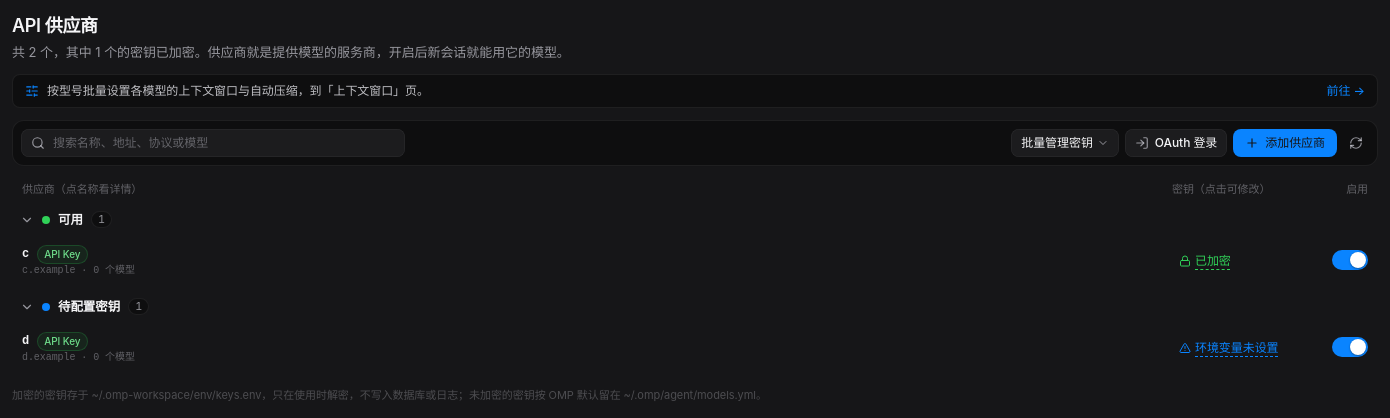
Test: encrypt-all menu › is disabled and reads 已全部加密 when no plaintext key remains
expect the text "供应商（点名称看详情）" is shown: met, box [22,182,142,196]
Click the button "批量管理密钥" at {"x": 1065, "y": 143}, box [1011,129,1119,157]
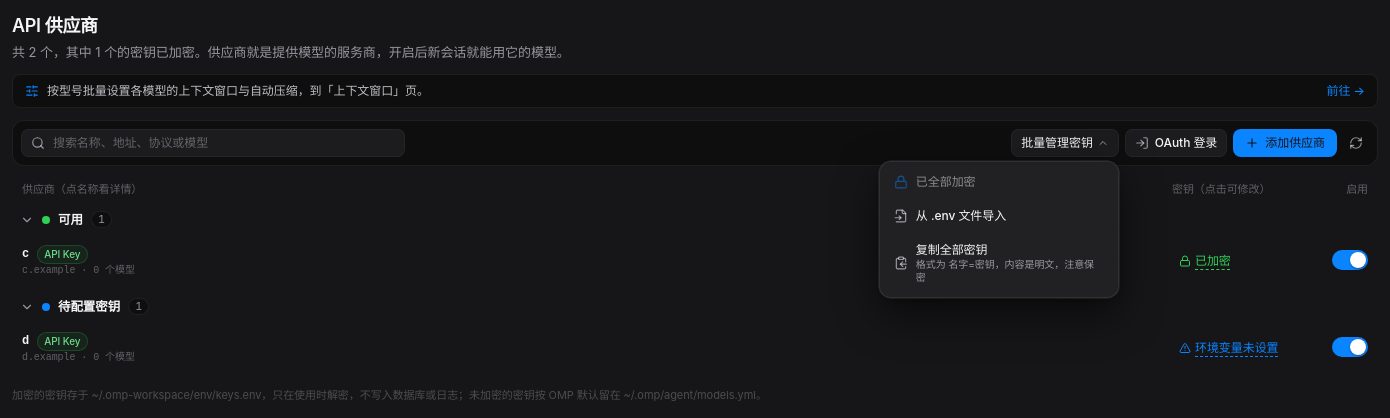
expect the button "已全部加密" is disabled: met, box [884,166,1114,198]
